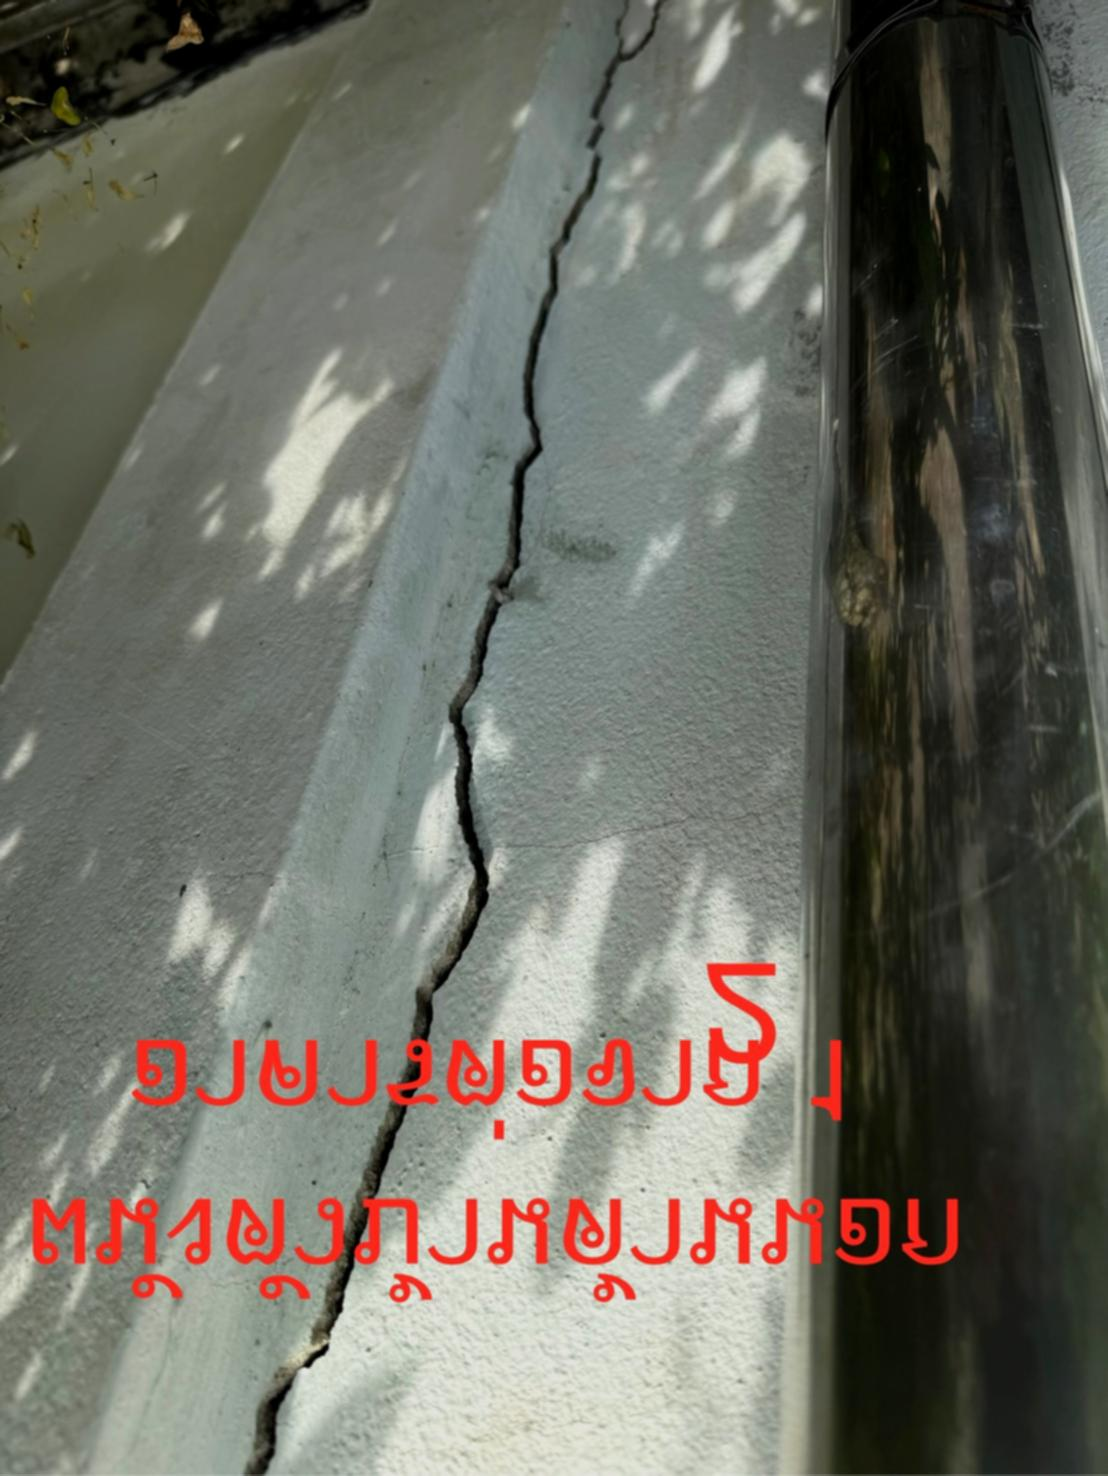High: (334, 3, 689, 1016)
